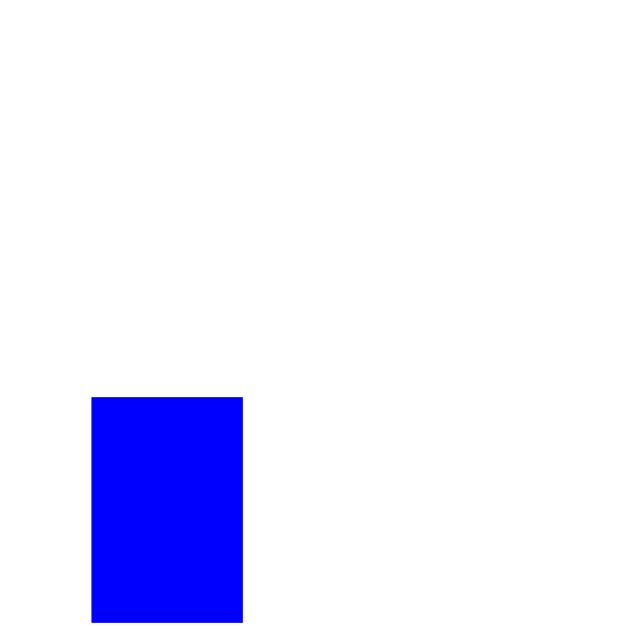Rectangle: (53, 363, 294, 640)
